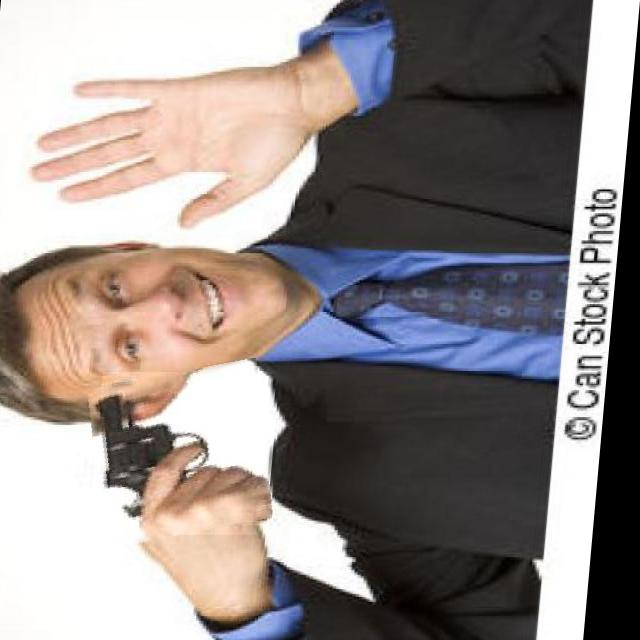handgun: (90, 364, 286, 542)
